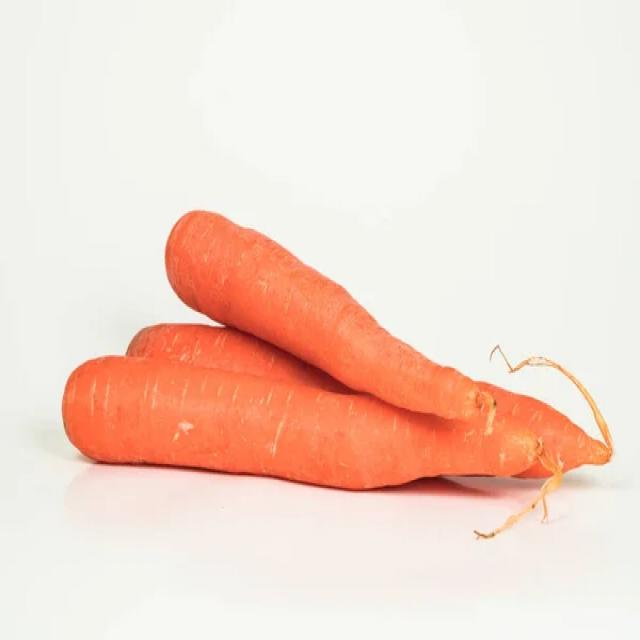Carrot: (125, 318, 614, 486), (165, 211, 496, 430), (49, 355, 552, 495)
